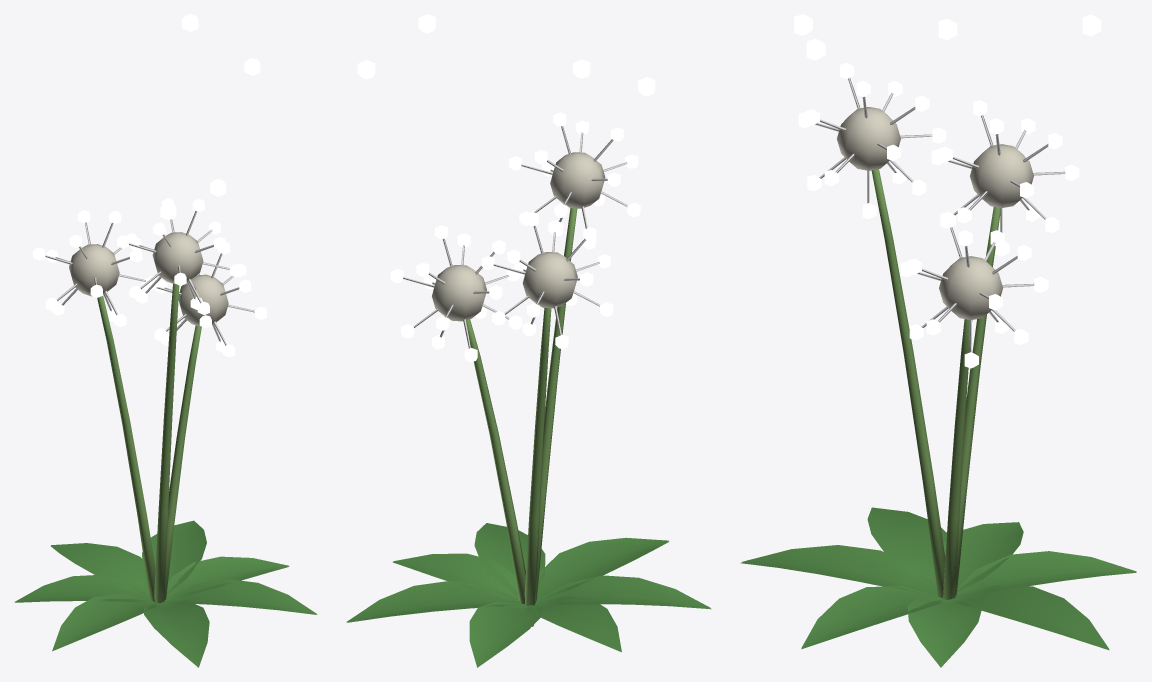
The model's file is ing_faelight_dandelion.glb.
3 renders of one model, left to right at view 1: azimuth 30°, elevation 25°; view 2: azimuth 150°, elevation 25°; view 3: azimuth 270°, elevation 25°, orthographic. The views are drawn at different scales.
Parts seen in each view (by area): view 1: ing_faelight_dandelion; view 2: ing_faelight_dandelion; view 3: ing_faelight_dandelion.
Boxes of the visible parts, x1=… form: ing_faelight_dandelion: x1=14, y1=14, x2=317, y2=667; ing_faelight_dandelion: x1=346, y1=14, x2=711, y2=667; ing_faelight_dandelion: x1=740, y1=14, x2=1136, y2=667.
Size of what is drawn, in the model's own units: 0.2986 by 0.5802 by 0.3165.
